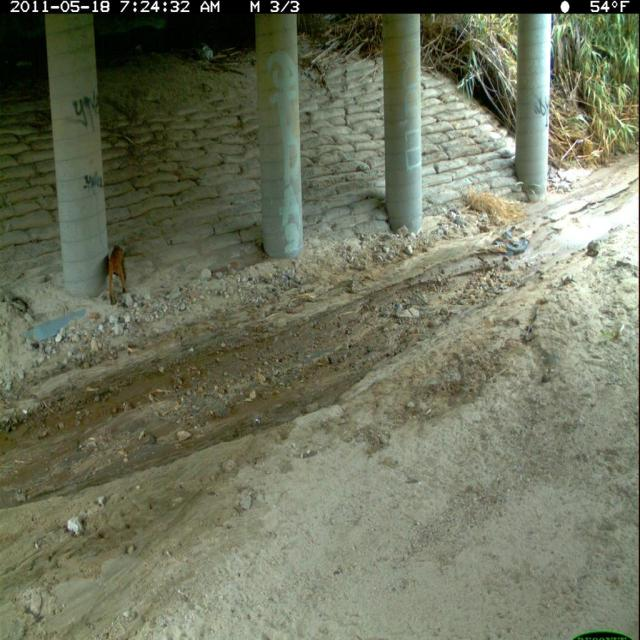bobcat: (107, 241, 131, 308)
